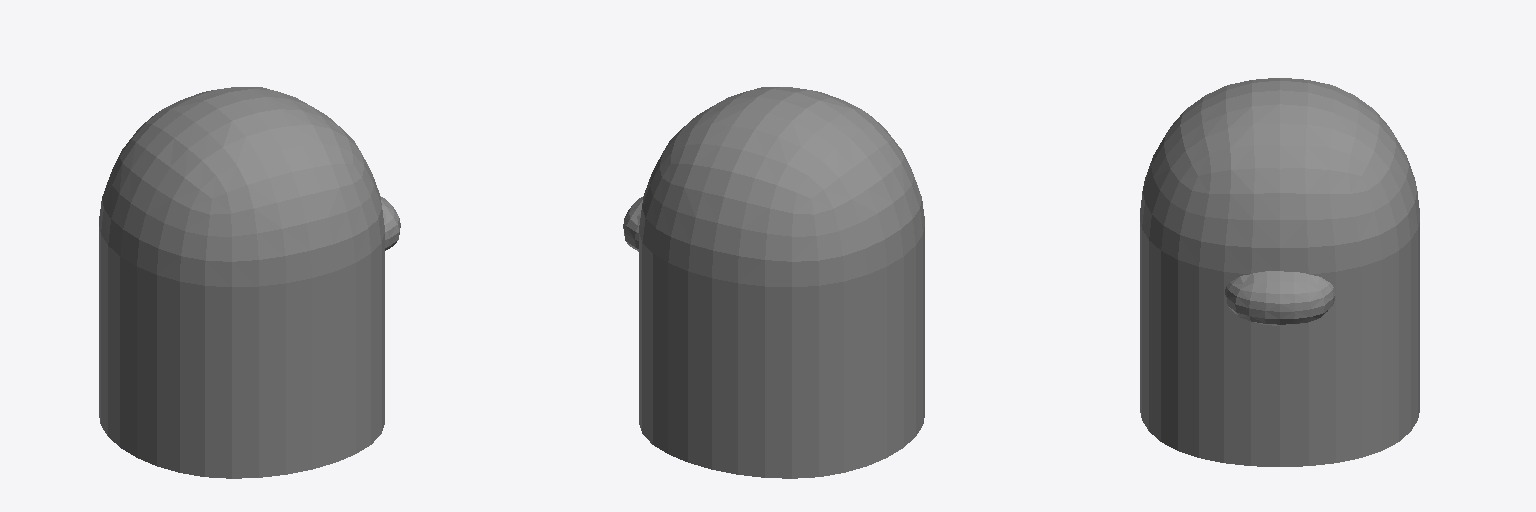
File: diglett.obj
3 renders of one model, left to right at view 1: azimuth 30°, elevation 25°; view 2: azimuth 150°, elevation 25°; view 3: azimuth 270°, elevation 25°, orthographic.
Visible parts, largest first — view 1: Diglett001; view 2: Diglett001; view 3: Diglett001.
Boxes of the visible parts, x1,y1,x2,y2 form: Diglett001: [99, 87, 400, 478]; Diglett001: [623, 87, 924, 478]; Diglett001: [1140, 78, 1419, 466].
Size of the model in its own units: 2.68 by 3.01 by 2.41.